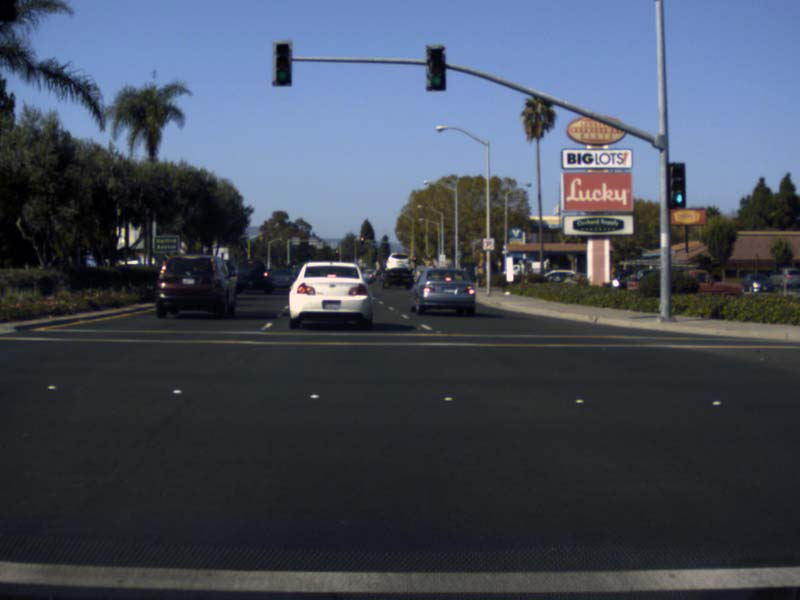Green: (425, 45, 445, 90), (273, 37, 291, 85), (667, 161, 685, 205)
Red: (412, 257, 416, 262)
Yellow: (360, 234, 363, 244), (334, 247, 337, 255)
